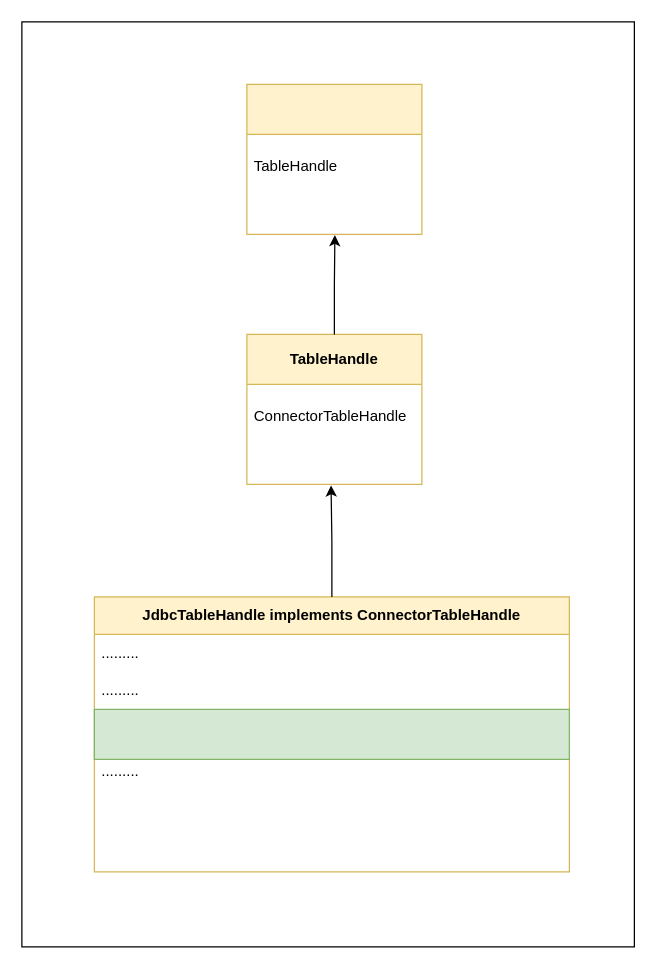
The diagram is 656 pixels wide and 969 high, and some of its shapes have lost their labels. Here are the shapes that lost their labels. From the top down, the box of each, then its label:
(246, 83, 422, 234): TableScanNode
(93, 708, 569, 759): private Optional <List<ConnectorTableHandle>> joinTables
